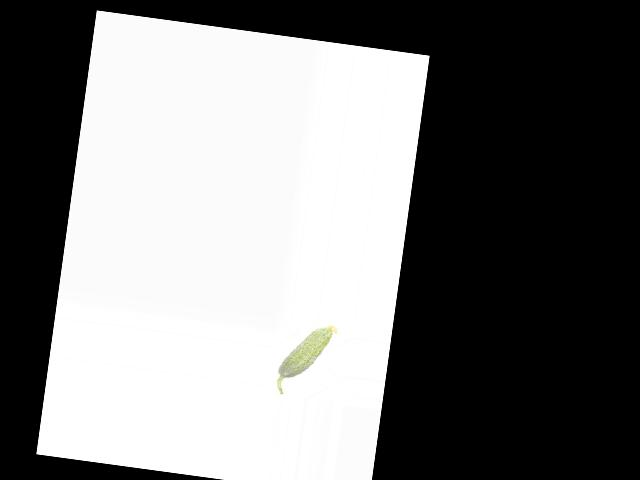cucumber: (274, 318, 339, 399)
